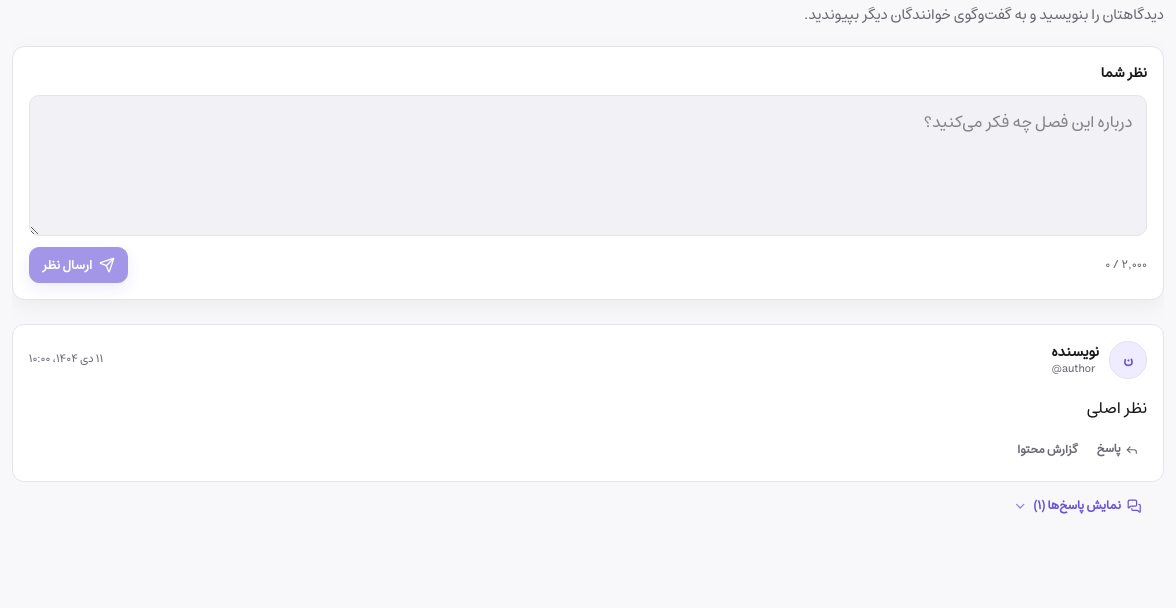
Test: ReaderInteractions › loads replies and creates a reply with the parent id
Expected: the text "نظر اصلی" is shown, [1087, 394, 1147, 422]
Click the button "نمایش پاسخ‌ها (۱)": (1077, 506) [1004, 488, 1150, 524]
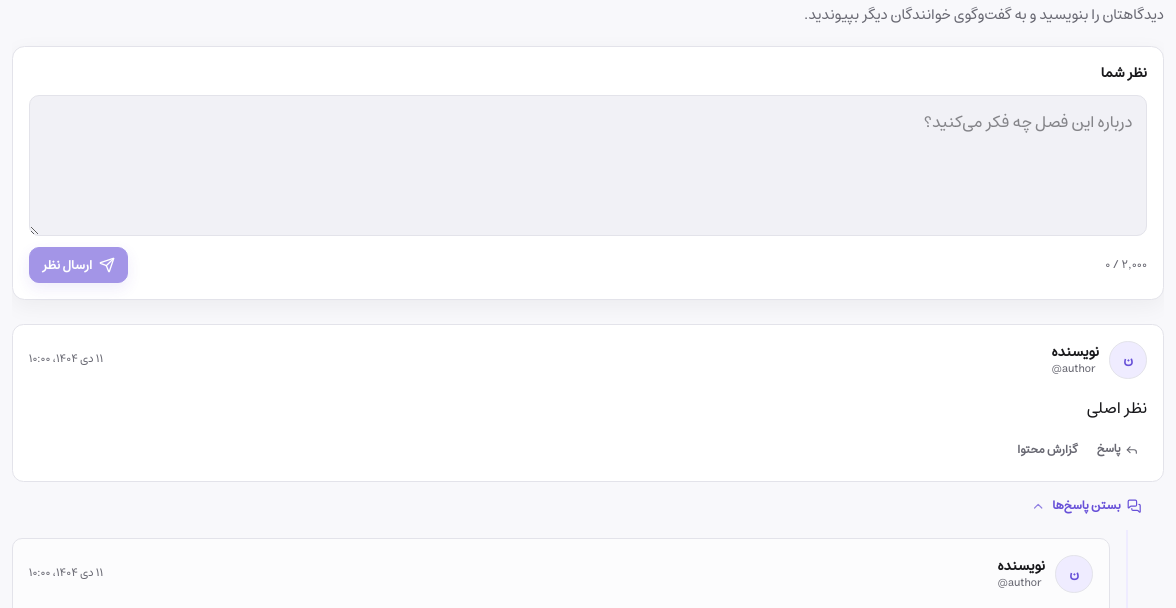
Click the button "پاسخ": (1118, 450) [1089, 434, 1147, 466]
(page scrolled)
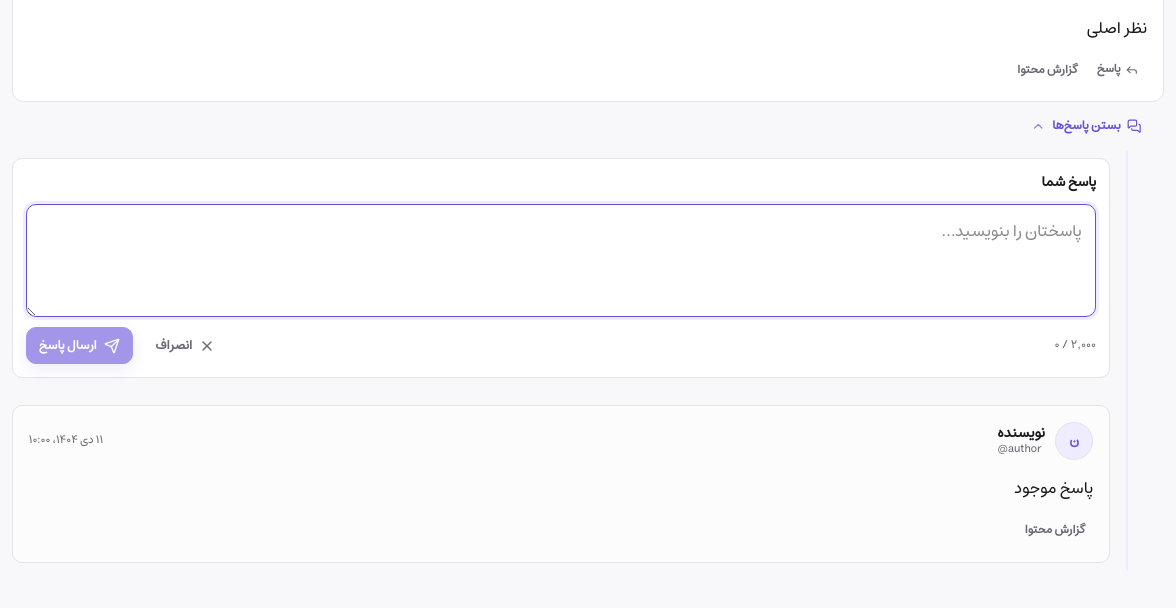
In the text box labelled "پاسخ شما": (561, 261) [26, 204, 1096, 317], type "پاسخ تازه"
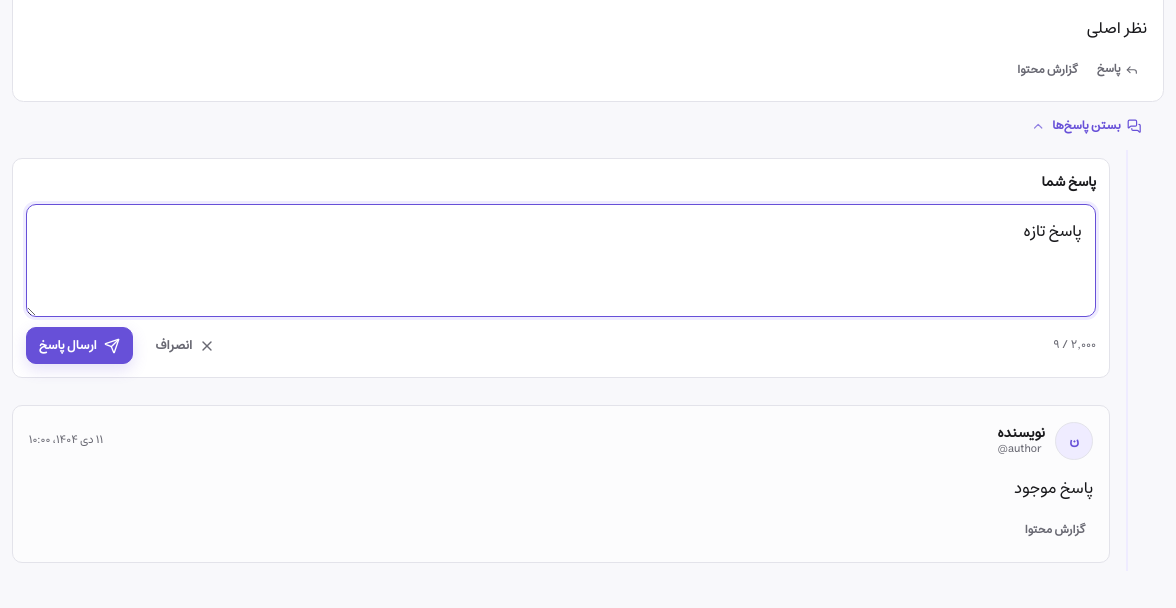
Click the button "ارسال پاسخ": (79, 346) [26, 327, 133, 364]
(page scrolled)
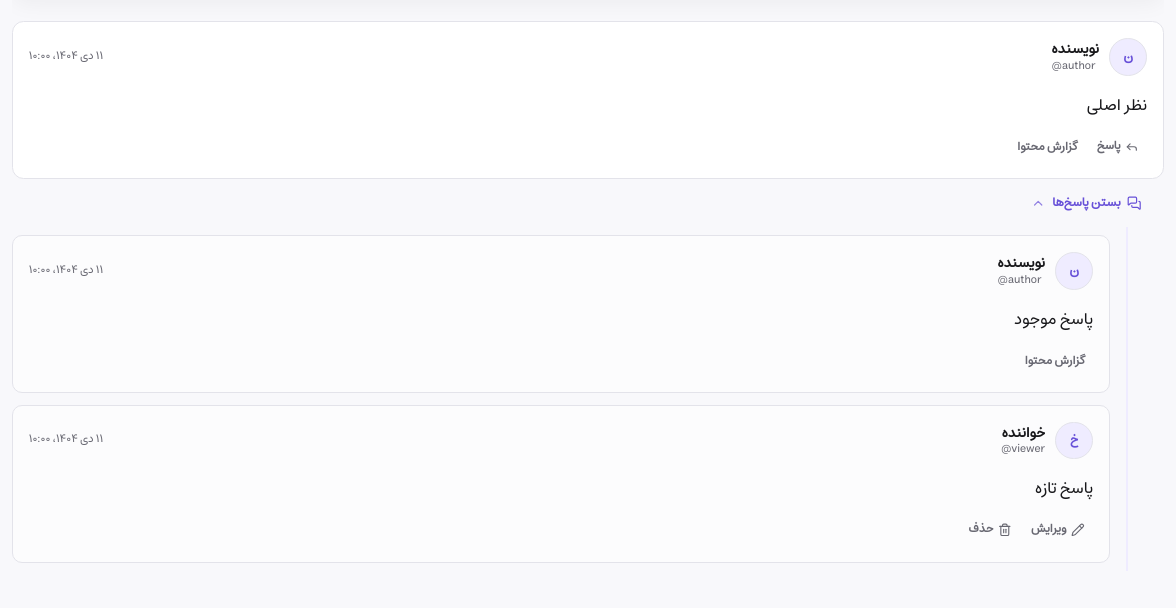
Result: the text "پاسخ تازه" is shown at [1035, 474, 1093, 502]
